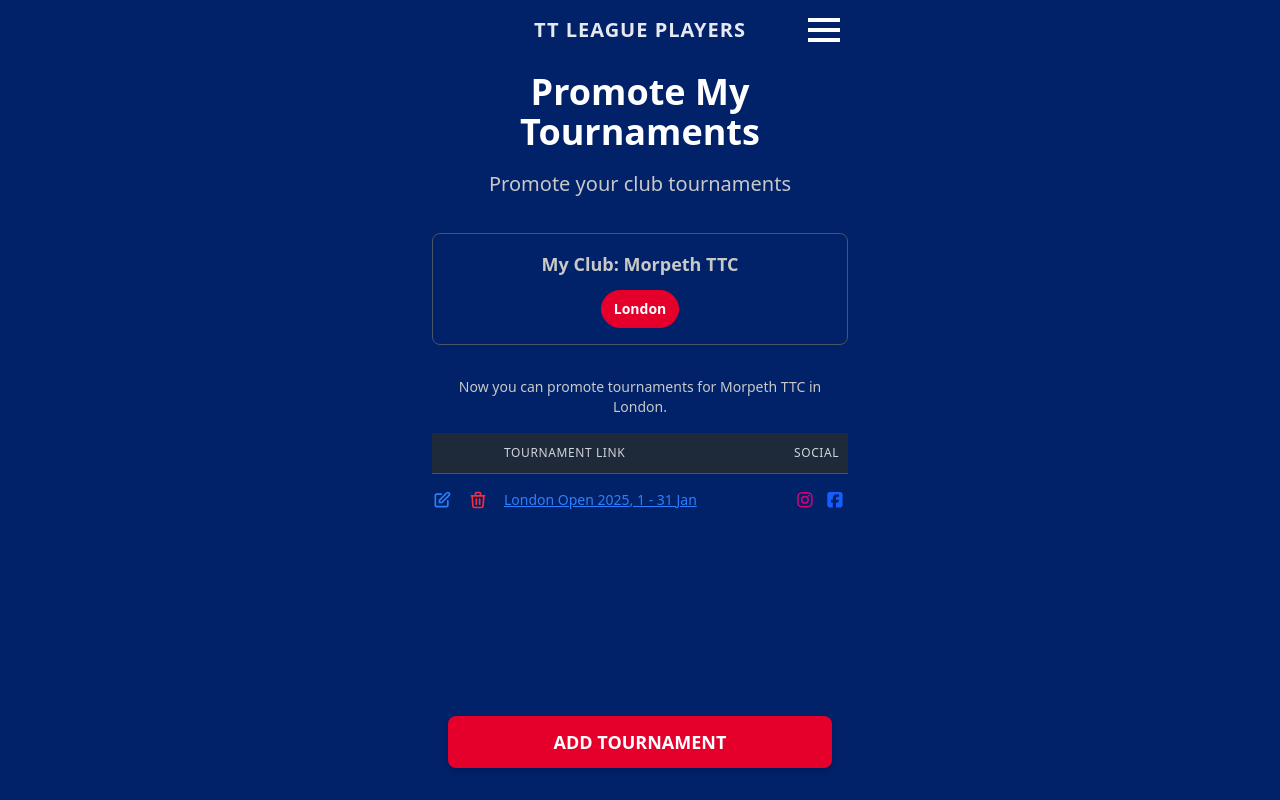
Test case: PromoteMyTournaments › tournament edit functionality › opens edit modal when edit button is clicked
Expected: the link "London Open 2025, 1 - 31 Jan" is shown, [504,490,697,508]
Click the button titled "Edit" at coordinates (442, 500), box [432,490,452,510]
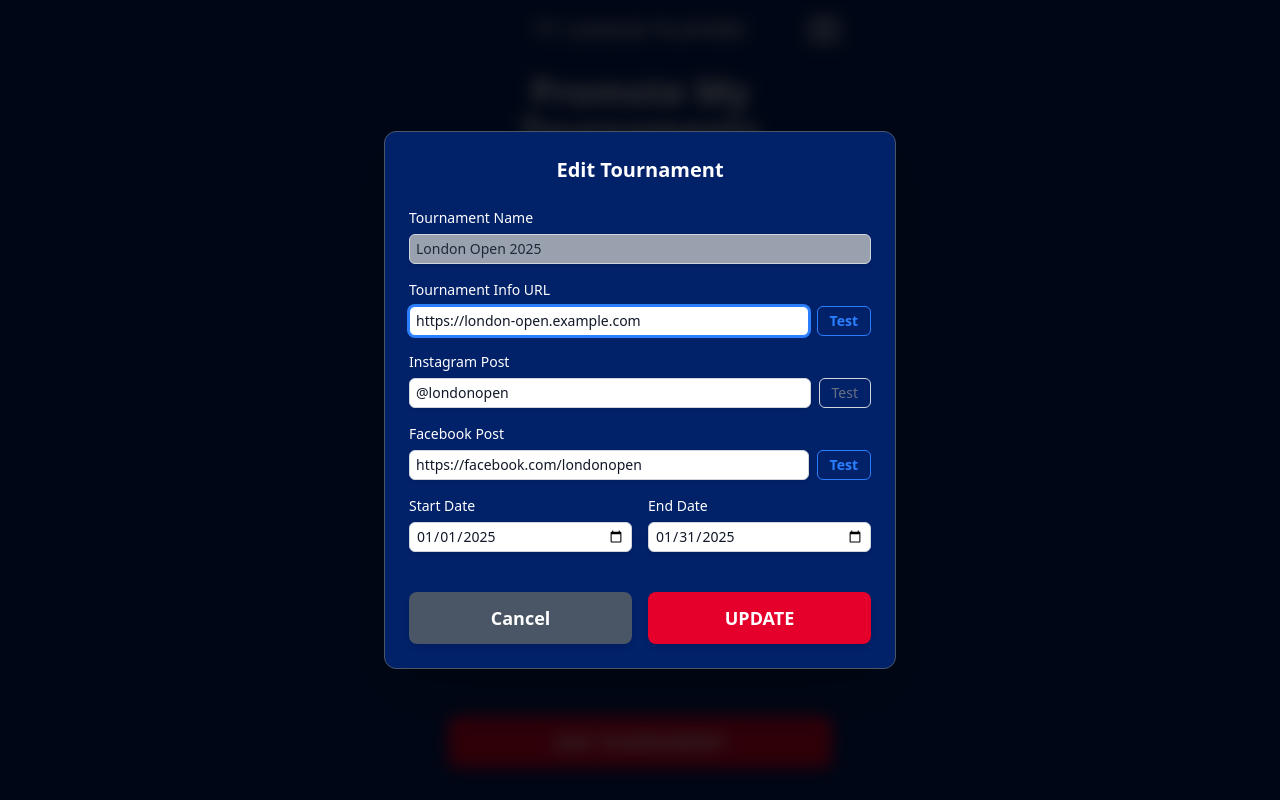
Result: the heading "Edit Tournament" is shown at [556,156,724,183]
